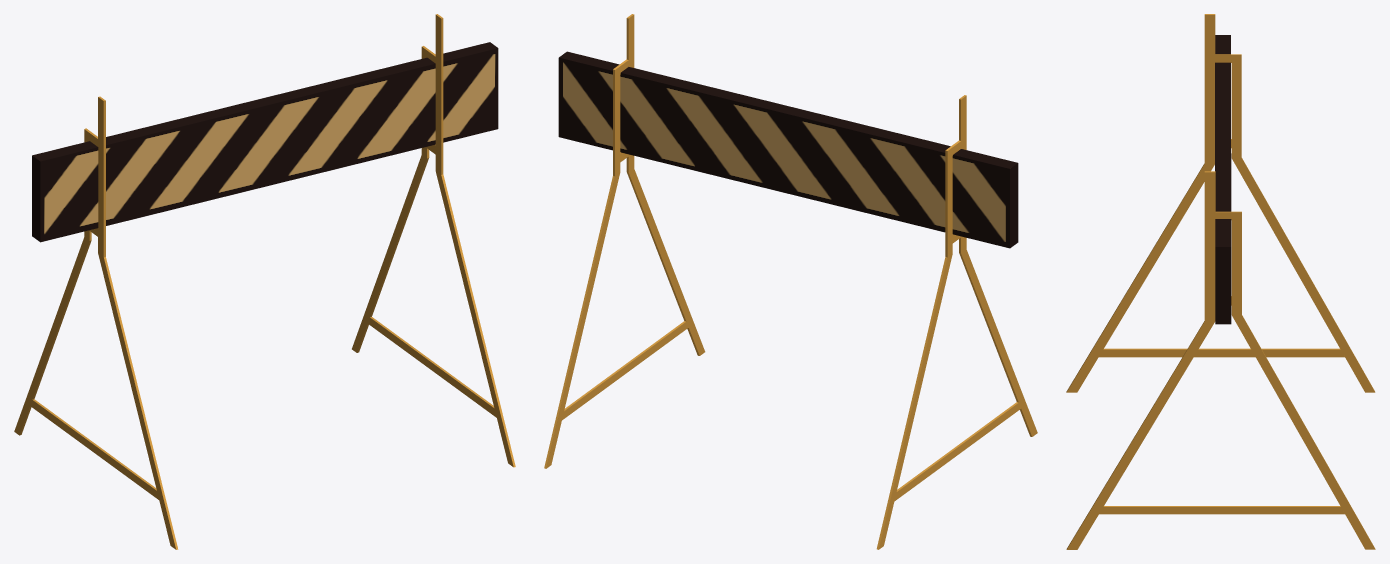
3 renders of one model, left to right at view 1: azimuth 30°, elevation 25°; view 2: azimuth 150°, elevation 25°; view 3: azimuth 270°, elevation 25°, orthographic. The views are drawn at different scales.
Parts seen in each view (by area): view 1: Barrier.001, Stand_R.001, Stand_L.001; view 2: Barrier.001, Stand_R.001, Stand_L.001; view 3: Stand_R.001, Stand_L.001, Barrier.001.
Boxes of the visible parts, <box> form: Barrier.001: <box>32,42,498,242</box>; Stand_R.001: <box>352,14,515,467</box>; Stand_L.001: <box>14,96,178,549</box>; Barrier.001: <box>558,51,1018,248</box>; Stand_R.001: <box>544,14,705,468</box>; Stand_L.001: <box>876,95,1037,549</box>; Stand_R.001: <box>1066,171,1375,549</box>; Stand_L.001: <box>1066,14,1375,392</box>; Barrier.001: <box>1215,35,1231,324</box>.
Bounding box in the file's own units: 1.83 × 1.51 × 1.12.
1 material, 1 textured.
